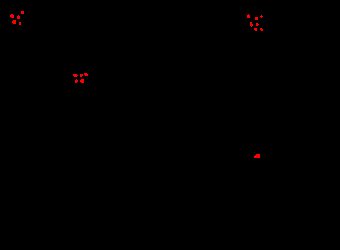Target: (254, 154, 260, 158), (10, 14, 14, 18), (12, 20, 16, 24), (80, 79, 84, 83), (250, 22, 253, 27), (73, 74, 78, 77), (247, 14, 250, 18), (17, 15, 20, 19), (84, 73, 88, 76), (75, 79, 78, 83), (21, 11, 24, 14), (260, 15, 263, 18), (255, 17, 258, 20), (256, 23, 259, 26), (254, 28, 257, 31), (260, 28, 263, 31), (80, 74, 83, 77), (19, 22, 21, 25)
